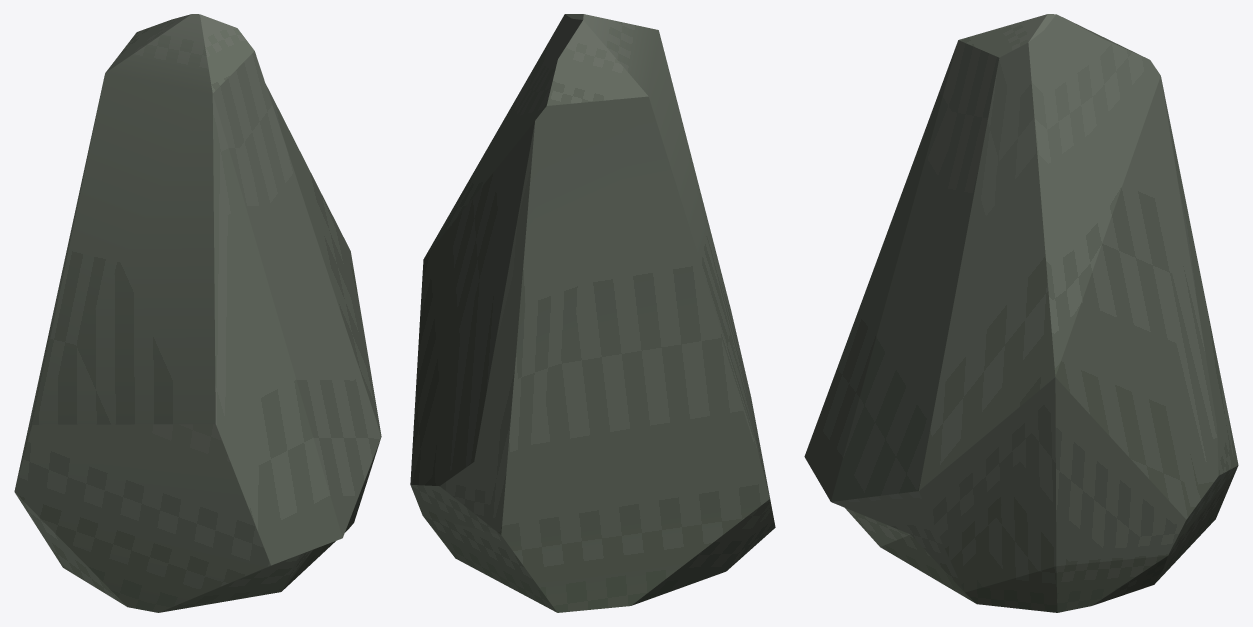
The model's file is Mesh_Deco_Pierre_5.glb.
The picture shows the model from 3 angles, left to right: view 1: azimuth 30°, elevation 25°; view 2: azimuth 150°, elevation 25°; view 3: azimuth 270°, elevation 25°; orthographic projection. The views are drawn at different scales.
Visible parts, largest first — view 1: Mesh_Deco_Pierre_5; view 2: Mesh_Deco_Pierre_5; view 3: Mesh_Deco_Pierre_5.
Boxes of the visible parts, x1,y1,x2,y2 form: Mesh_Deco_Pierre_5: [14, 14, 381, 612]; Mesh_Deco_Pierre_5: [410, 14, 775, 612]; Mesh_Deco_Pierre_5: [804, 14, 1238, 612].
Size of the model in its own units: 0.3702 by 0.5402 by 0.3987.
1 material, 1 textured.
